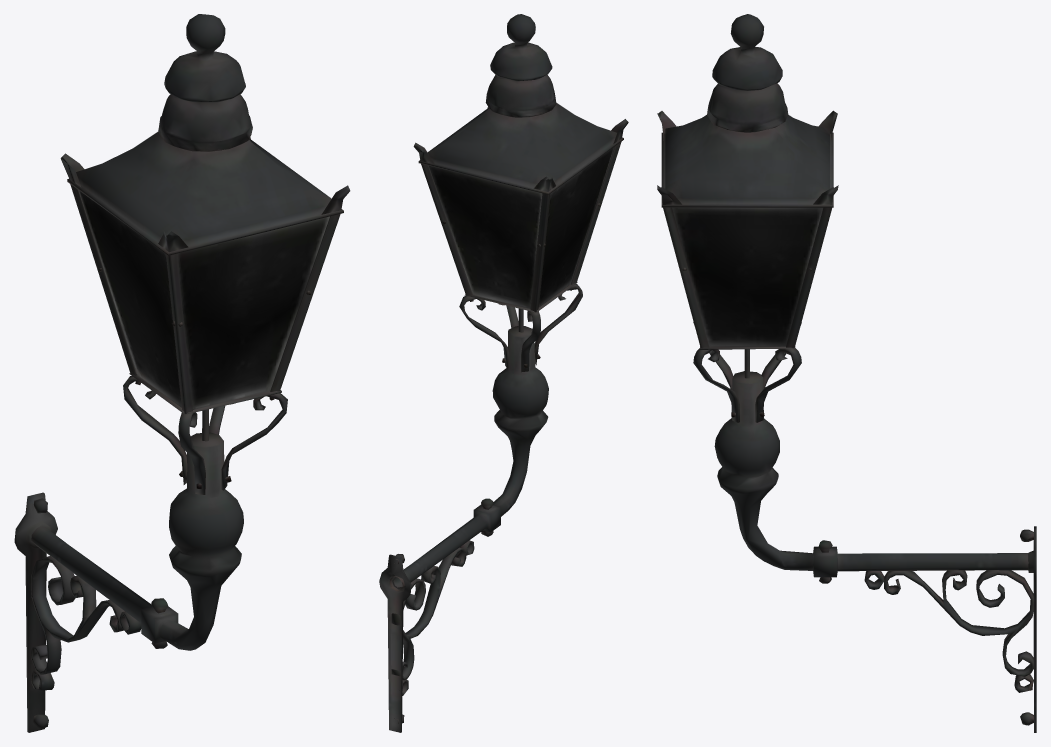
The model's file is lamp2.glb.
3 renders of one model, left to right at view 1: azimuth 30°, elevation 25°; view 2: azimuth 150°, elevation 25°; view 3: azimuth 270°, elevation 25°, orthographic. The views are drawn at different scales.
Parts seen in each view (by area): view 1: street_lamp_02; view 2: street_lamp_02; view 3: street_lamp_02.
Boxes of the visible parts, box(x1,y1,x2,y2) form: street_lamp_02: box(14, 14, 350, 732); street_lamp_02: box(379, 14, 628, 732); street_lamp_02: box(657, 14, 1036, 732).
Size of the model in its own units: 0.2183 by 0.948 by 0.4568.
Materials: 2 (2 with a texture image).
